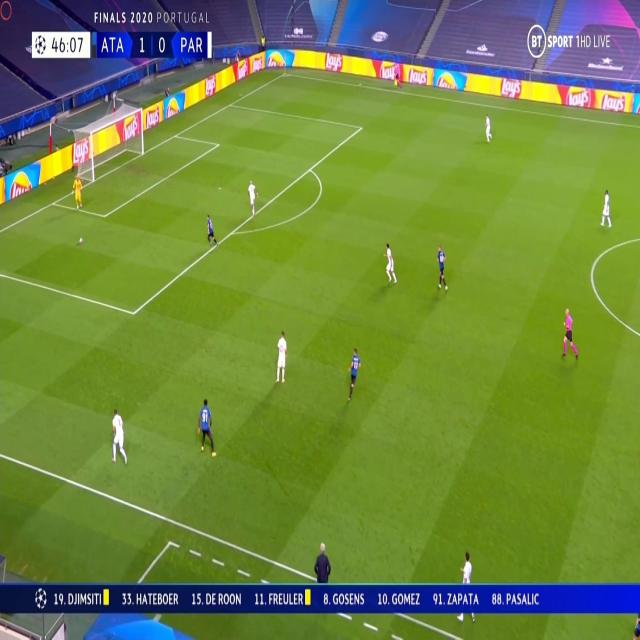ball: (78, 236, 84, 246)
player: (454, 542, 479, 626), (197, 396, 216, 457), (314, 536, 336, 586), (560, 306, 579, 361), (111, 404, 127, 467), (346, 345, 362, 401), (274, 327, 288, 384), (382, 241, 397, 285), (435, 242, 448, 290), (599, 186, 613, 228), (204, 213, 218, 248), (247, 176, 259, 216), (72, 169, 84, 208), (484, 110, 493, 143)
